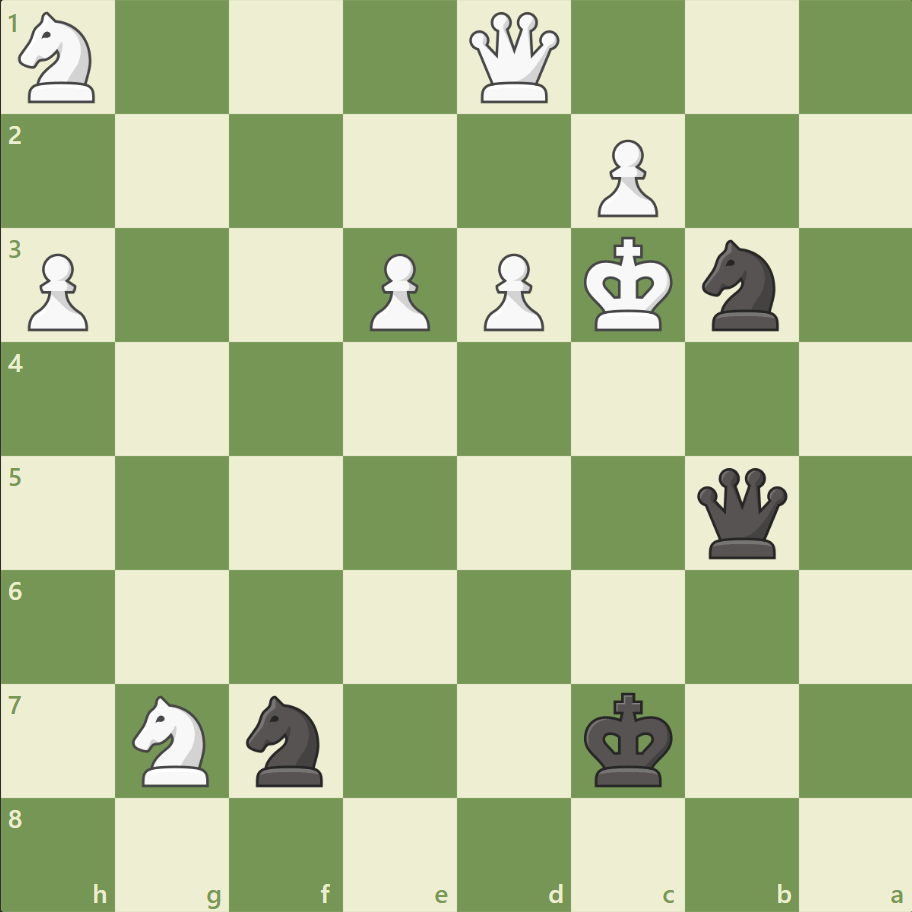K: (579, 231, 679, 339)
N: (124, 688, 222, 791), (11, 7, 108, 110)
P: (474, 246, 549, 337), (20, 246, 95, 337), (361, 246, 435, 337), (588, 132, 662, 223)
Q: (464, 9, 563, 108)
k: (579, 685, 679, 793)
n: (238, 688, 335, 791), (692, 234, 789, 337)
q: (691, 463, 790, 562)
